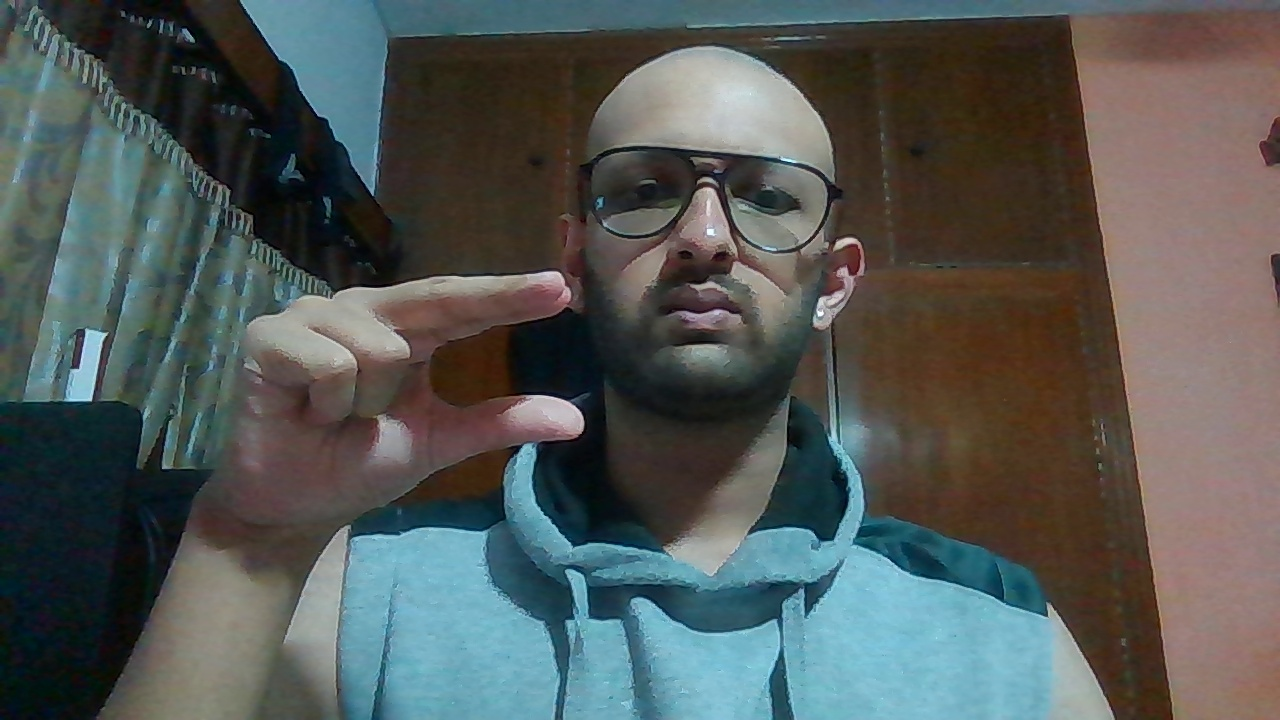No: (225, 266, 586, 511)
